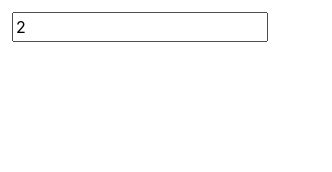
99를 넘으면 99, 0이면 1로 맞춘다
Replace the text in the field named "카멜피아 수량" with "150" at (140, 27), box [12, 12, 268, 42]
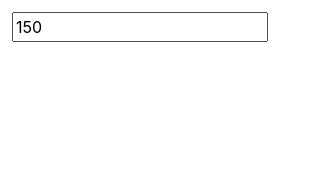
Leave the field named "카멜피아 수량", box [12, 12, 268, 42]
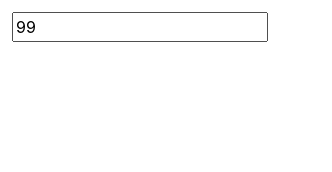
Now the field named "카멜피아 수량" holds "99"
Replace the text in the field named "카멜피아 수량" with "0" at (140, 27), box [12, 12, 268, 42]
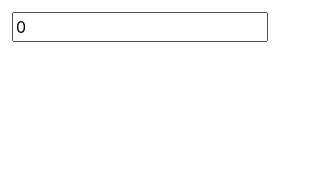
Leave the field named "카멜피아 수량", box [12, 12, 268, 42]
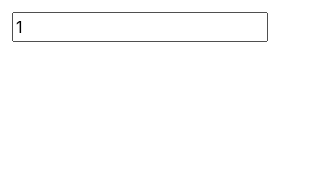
Now the field named "카멜피아 수량" holds "1", box [12, 12, 268, 42]
